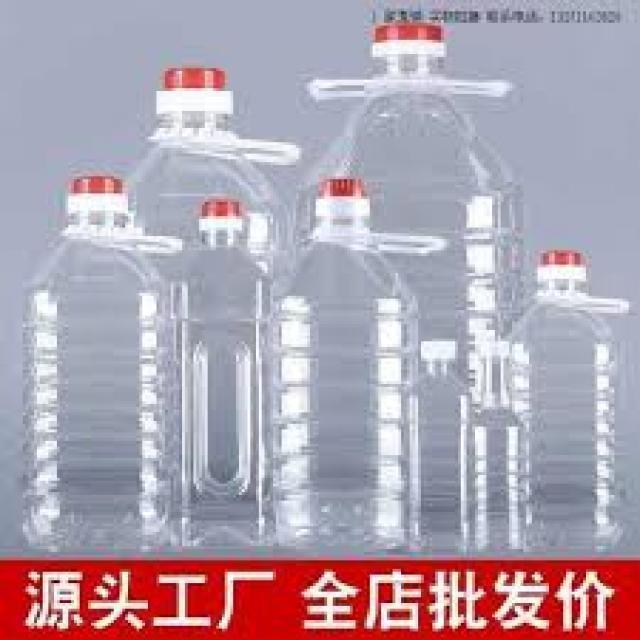Plastic: (288, 19, 518, 342), (9, 170, 176, 552), (273, 174, 415, 554), (166, 195, 284, 554), (504, 248, 616, 548), (121, 62, 291, 245)
